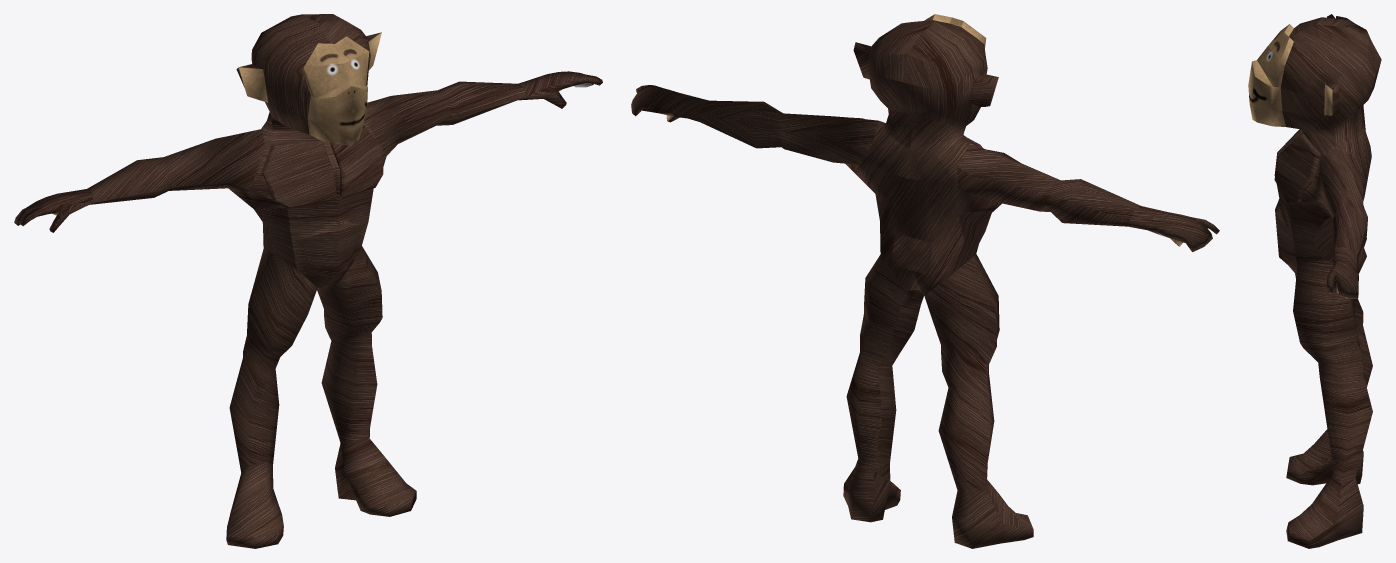
The picture shows the model from 3 angles, left to right: view 1: azimuth 30°, elevation 25°; view 2: azimuth 150°, elevation 25°; view 3: azimuth 270°, elevation 25°; orthographic projection. The views are drawn at different scales.
Parts seen in each view (by area): view 1: Cube; view 2: Cube; view 3: Cube.
Part boxes in pixels (<box>): Cube: <box>14,14,602,548</box>; Cube: <box>631,14,1219,548</box>; Cube: <box>1248,14,1381,548</box>.
Bounding box in the file's own units: 199 × 162 × 40.68.
Materials: 1 (1 with a texture image).
